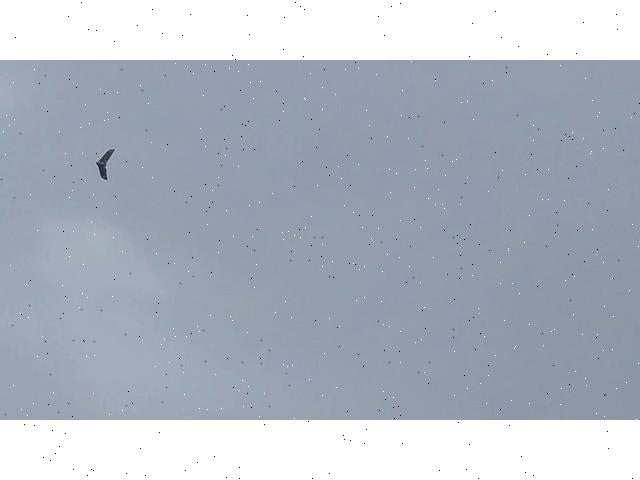Anti-Drone: (95, 149, 115, 181)
